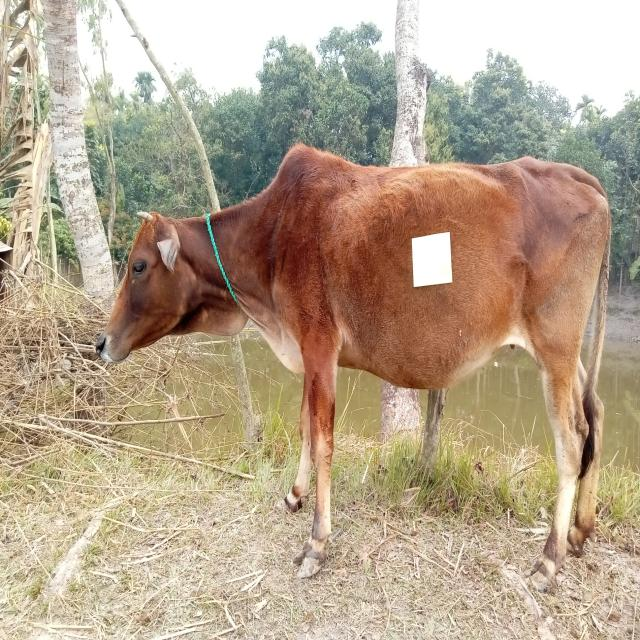badan_sapi: (305, 165, 576, 380)
sapi: (94, 142, 614, 596)
